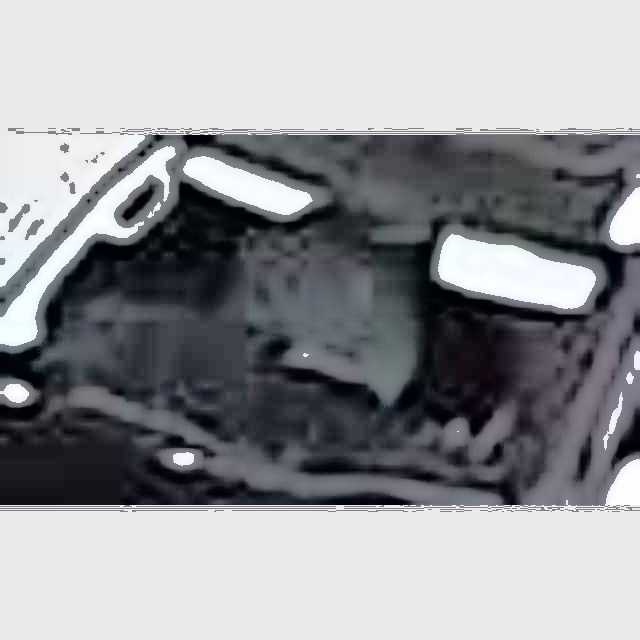tidak-pakai: (193, 204, 424, 397)
